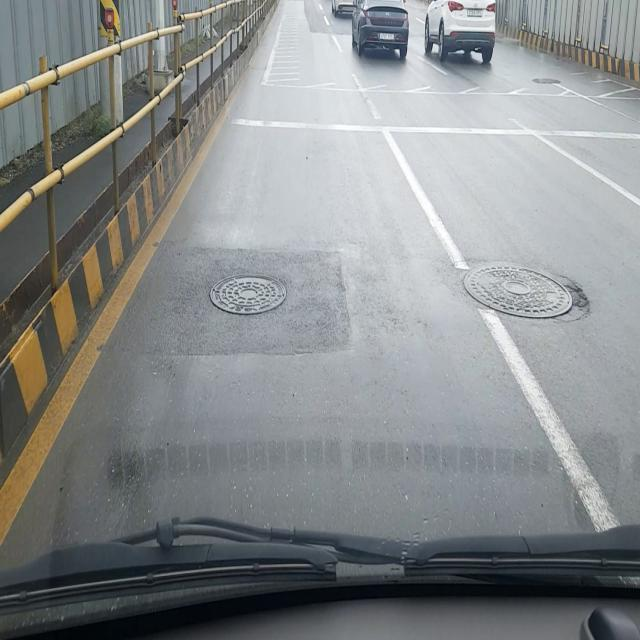pothole: (462, 264, 589, 321)
